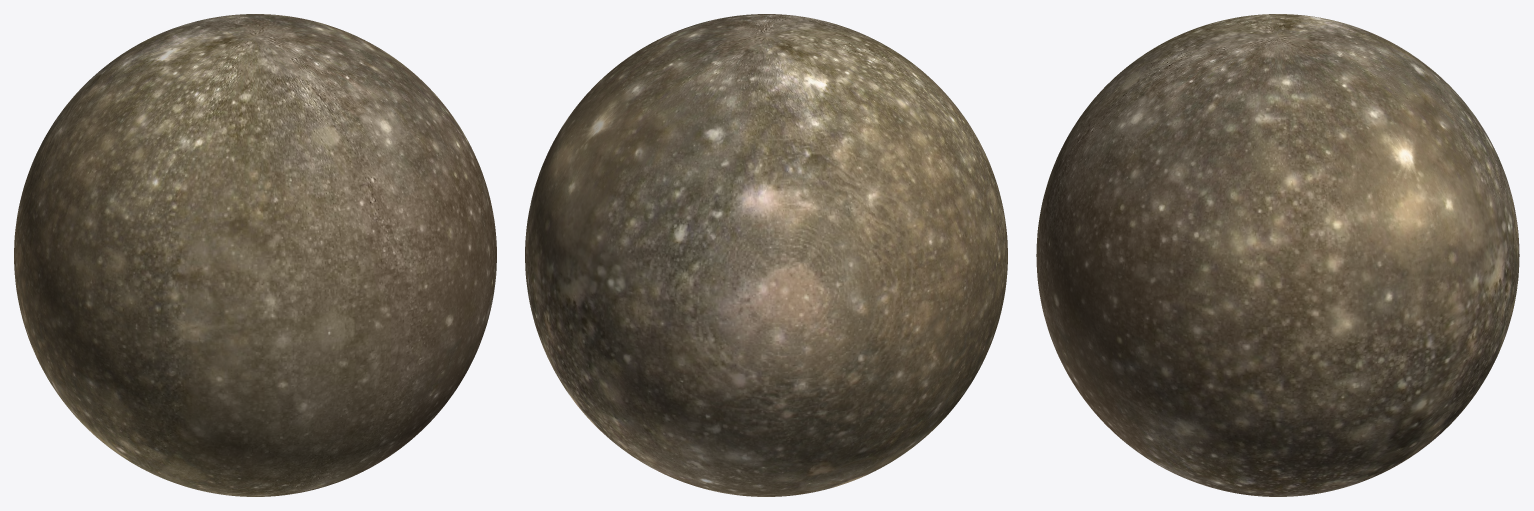
Rendered from Calisto_High.fbx.
The picture shows the model from 3 angles, left to right: view 1: azimuth 30°, elevation 25°; view 2: azimuth 150°, elevation 25°; view 3: azimuth 270°, elevation 25°; orthographic projection.
Parts seen in each view (by area): view 1: Sphere; view 2: Sphere; view 3: Sphere.
Boxes of the visible parts, x1,y1,x2,y2 form: Sphere: [14, 14, 496, 496]; Sphere: [525, 14, 1007, 496]; Sphere: [1036, 14, 1519, 496].
Size of the model in its own units: 200 by 200 by 200.
Materials: 1 (1 with a texture image).
